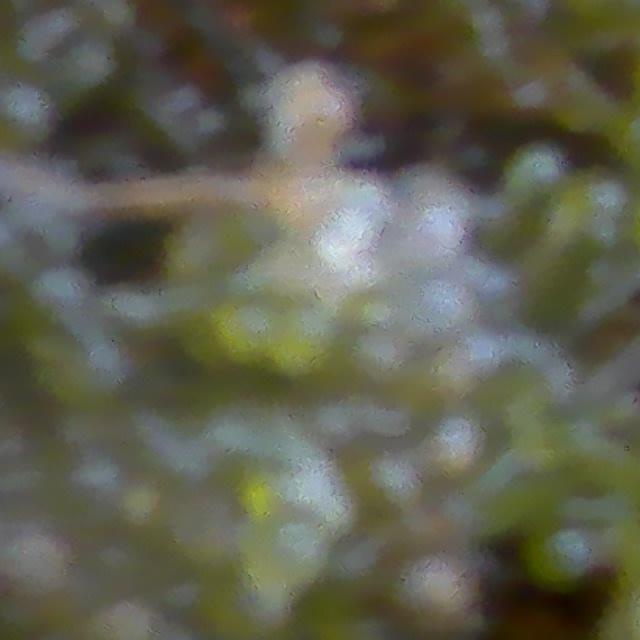SeaGrape: (389, 547, 489, 640), (403, 179, 469, 272), (262, 515, 333, 587), (320, 194, 387, 260), (526, 523, 594, 588)
